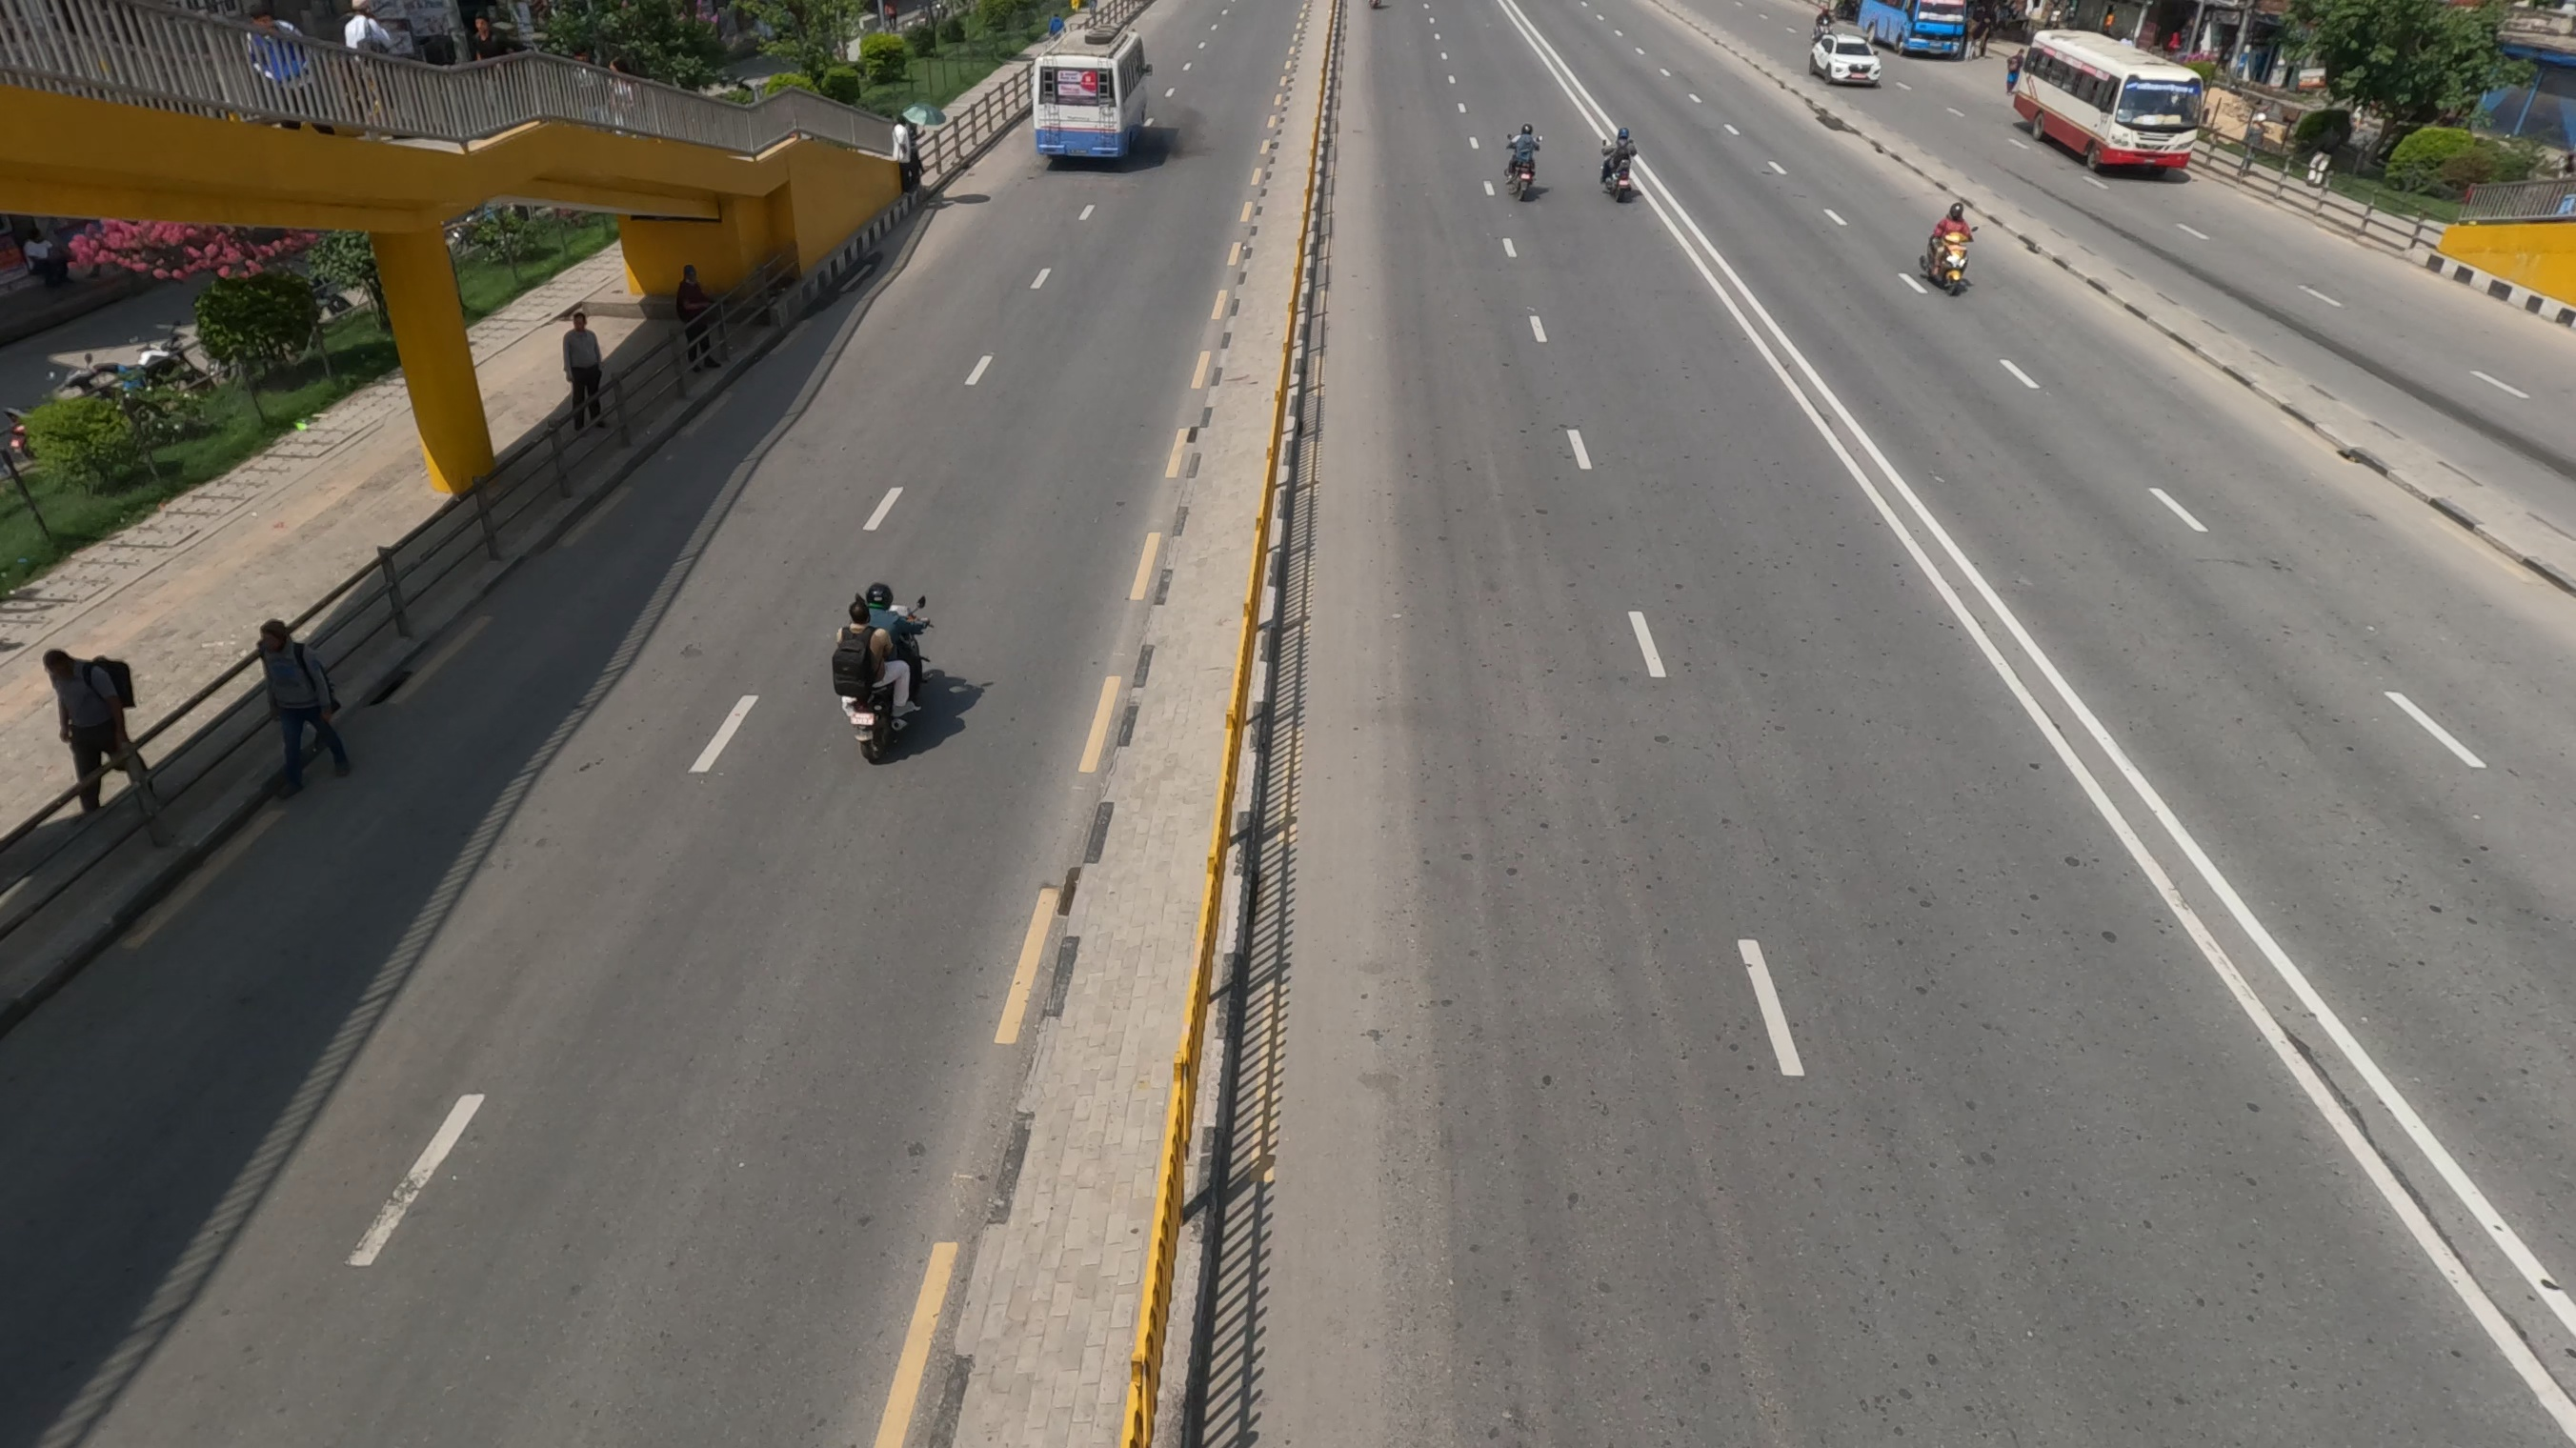smoky: (1039, 58, 1201, 158)
